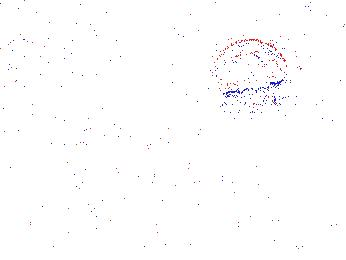moon jellyfish: (277, 1, 346, 79), (211, 40, 288, 94), (1, 1, 88, 47)
